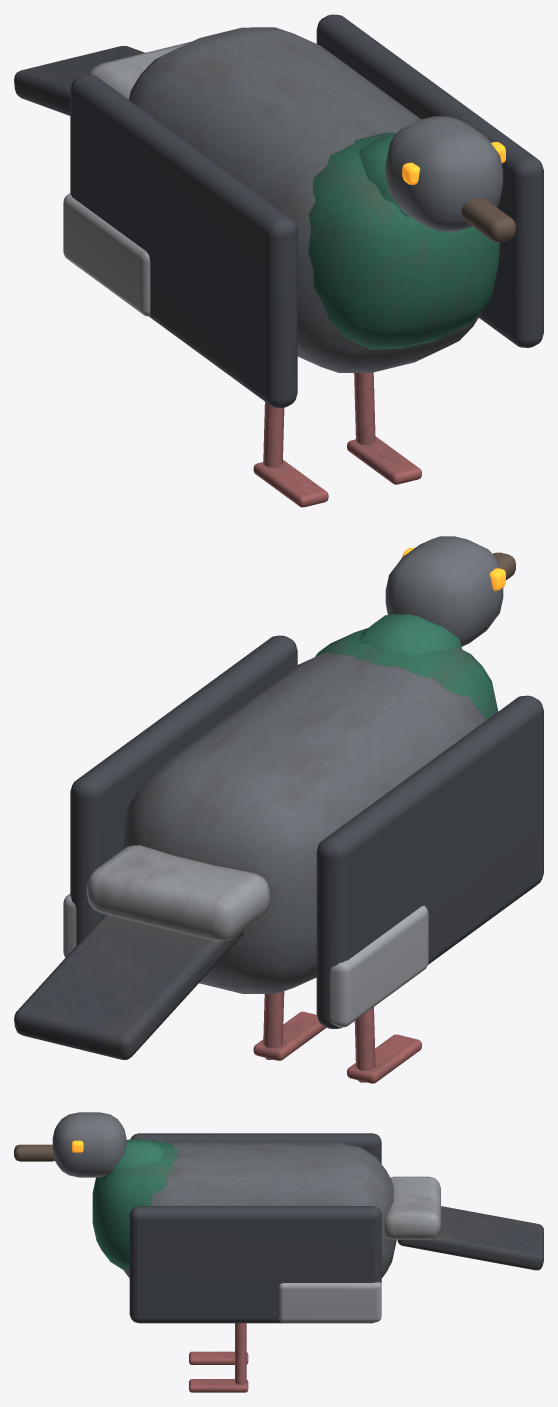
Rendered from golab.glb.
3 renders of one model, top to bottom at view 1: azimuth 30°, elevation 25°; view 2: azimuth 150°, elevation 25°; view 3: azimuth 270°, elevation 25°, orthographic. The views are drawn at different scales.
Parts seen in each view (by area): view 1: Korpus, skrzydlo.001, skrzydlo, czaszka, lotka.001, dziob, szyjka; view 2: Korpus, skrzydlo.001, skrzydlo, czaszka, lotka.001, szyjka, lotka; view 3: Korpus, skrzydlo, lotka, czaszka, skrzydlo.001, szyjka, dziob.
Boxes of the visible parts, x1,y1,x2,y2 form: Korpus: [14, 27, 499, 507]; skrzydlo.001: [70, 74, 297, 407]; skrzydlo: [316, 14, 543, 347]; czaszka: [385, 116, 503, 231]; lotka.001: [63, 193, 150, 316]; dziob: [461, 197, 515, 242]; szyjka: [359, 134, 409, 216]; Korpus: [14, 628, 498, 1083]; skrzydlo.001: [316, 695, 543, 1028]; skrzydlo: [70, 635, 297, 945]; czaszka: [385, 536, 503, 646]; lotka.001: [330, 905, 428, 1027]; szyjka: [359, 614, 462, 655]; lotka: [63, 894, 76, 957]; Korpus: [92, 1141, 543, 1392]; skrzydlo: [129, 1206, 381, 1323]; lotka: [278, 1282, 381, 1322]; czaszka: [52, 1112, 126, 1177]; skrzydlo.001: [130, 1133, 381, 1163]; szyjka: [102, 1139, 164, 1179]; dziob: [14, 1144, 54, 1161].
Bounding box in the file's own units: 0.135 × 0.1931 × 0.3574.
7 materials, 1 textured.
